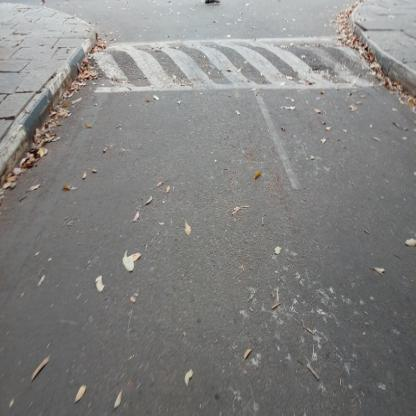speed-bumps: (98, 38, 376, 91)
